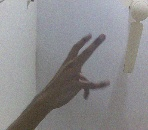hand: (34, 33, 113, 112)
